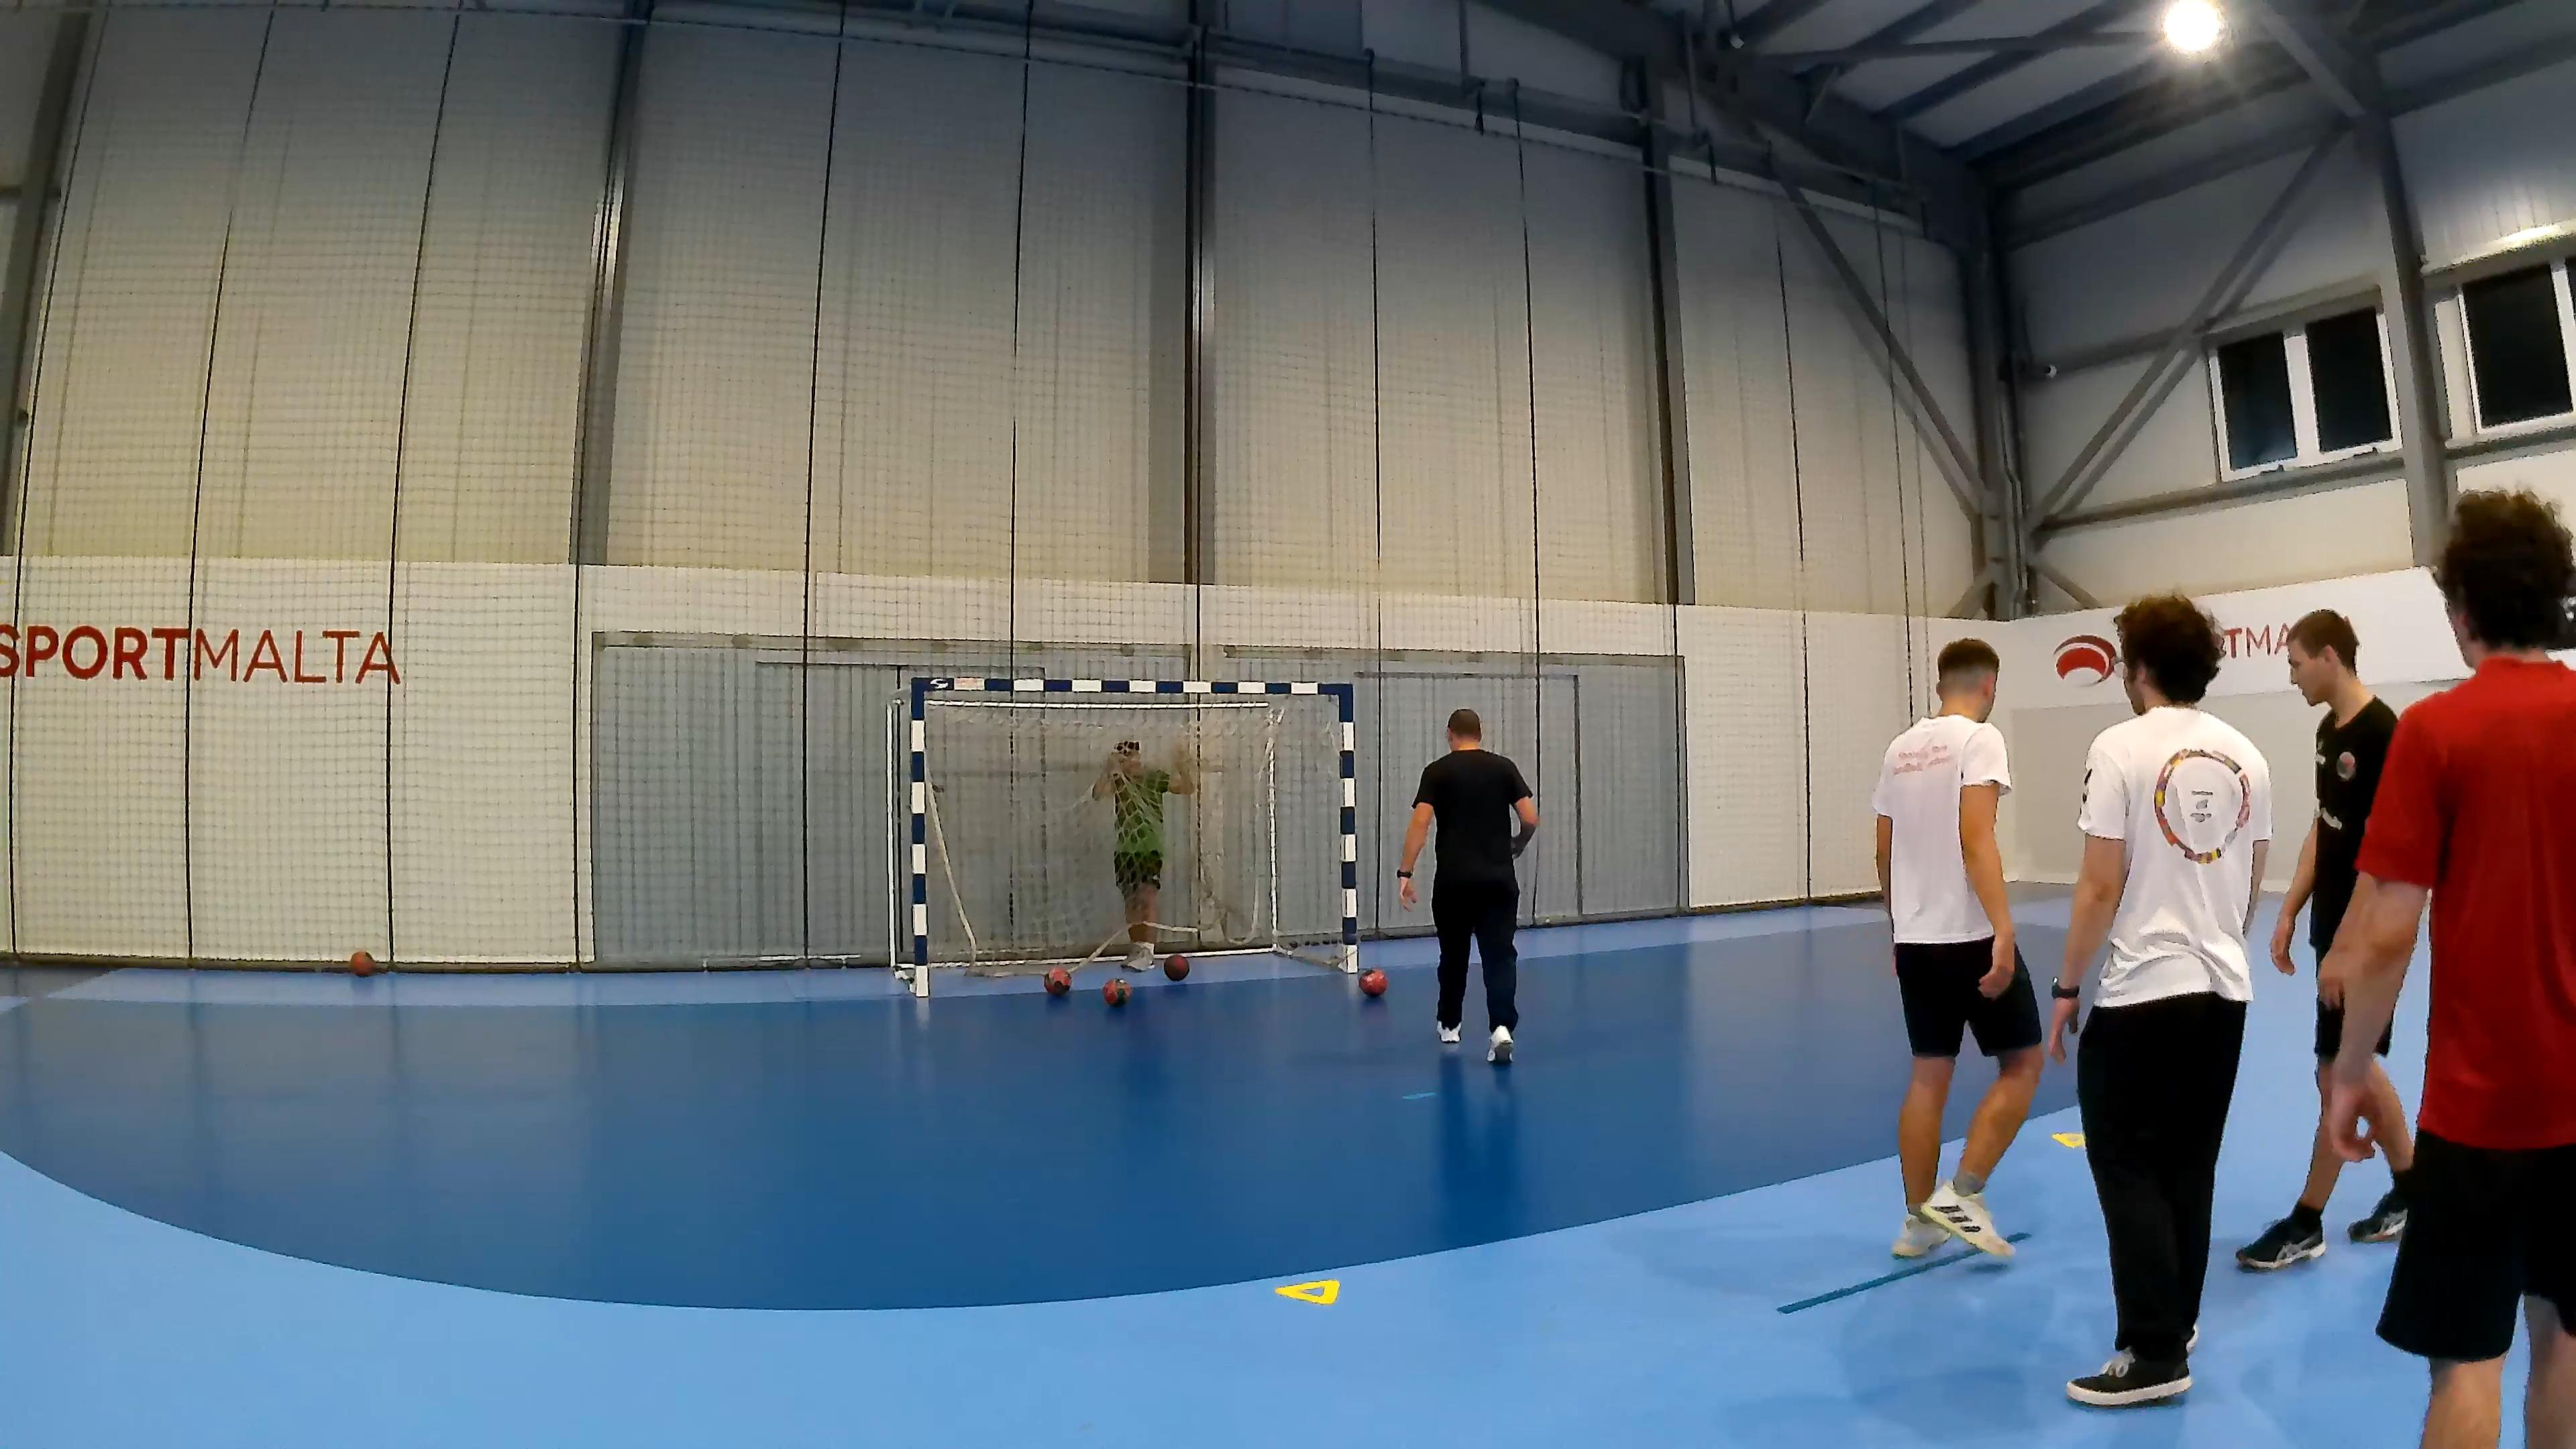handball: (347, 943, 380, 975), (1359, 966, 1387, 996), (1102, 977, 1129, 1005), (1162, 952, 1189, 980), (1042, 966, 1069, 994)
